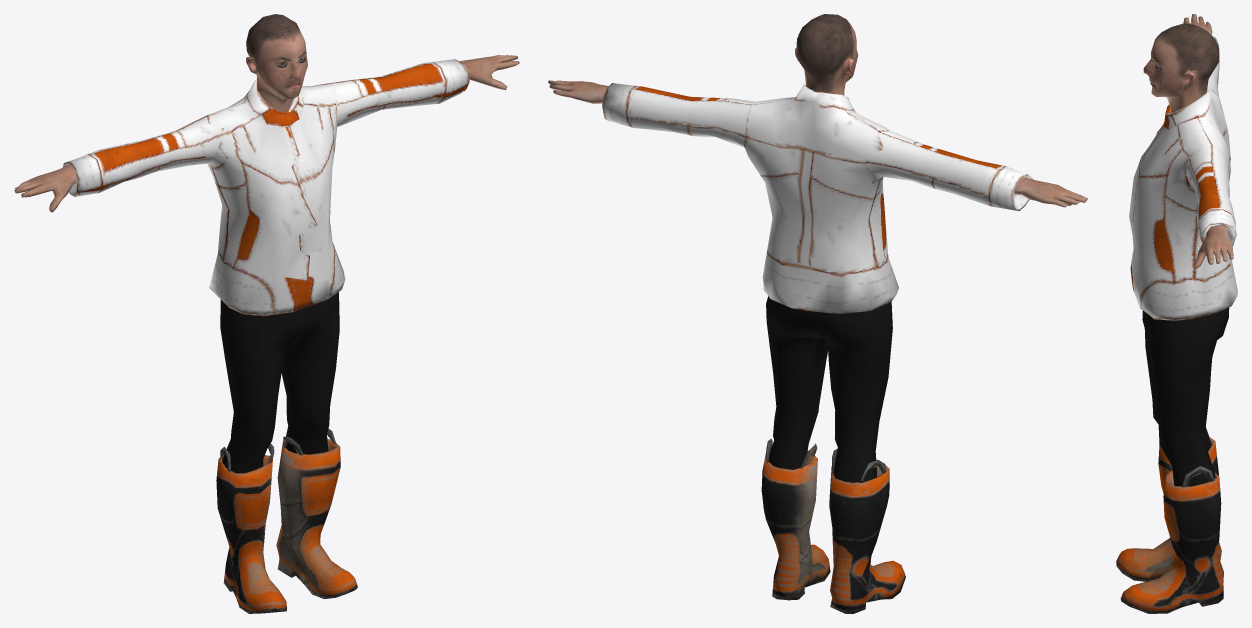
The model's file is GlossJacket.fbx.
3 renders of one model, left to right at view 1: azimuth 30°, elevation 25°; view 2: azimuth 150°, elevation 25°; view 3: azimuth 270°, elevation 25°, orthographic. The views are drawn at different scales.
Visible parts, largest first — view 1: GlossjacketGuy; view 2: GlossjacketGuy; view 3: GlossjacketGuy.
Part boxes in pixels (x1,y1,x2,y2): GlossjacketGuy: (14,14,519,613); GlossjacketGuy: (548,14,1087,613); GlossjacketGuy: (1116,14,1237,613).
Size of the model in its own units: 17344 by 18298 by 3586.
1 material, 1 textured.
